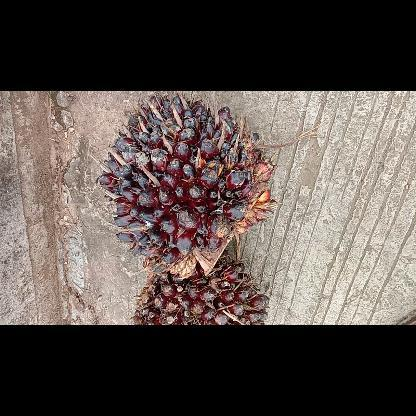TBS mentah: (94, 90, 282, 278), (133, 254, 273, 324)
